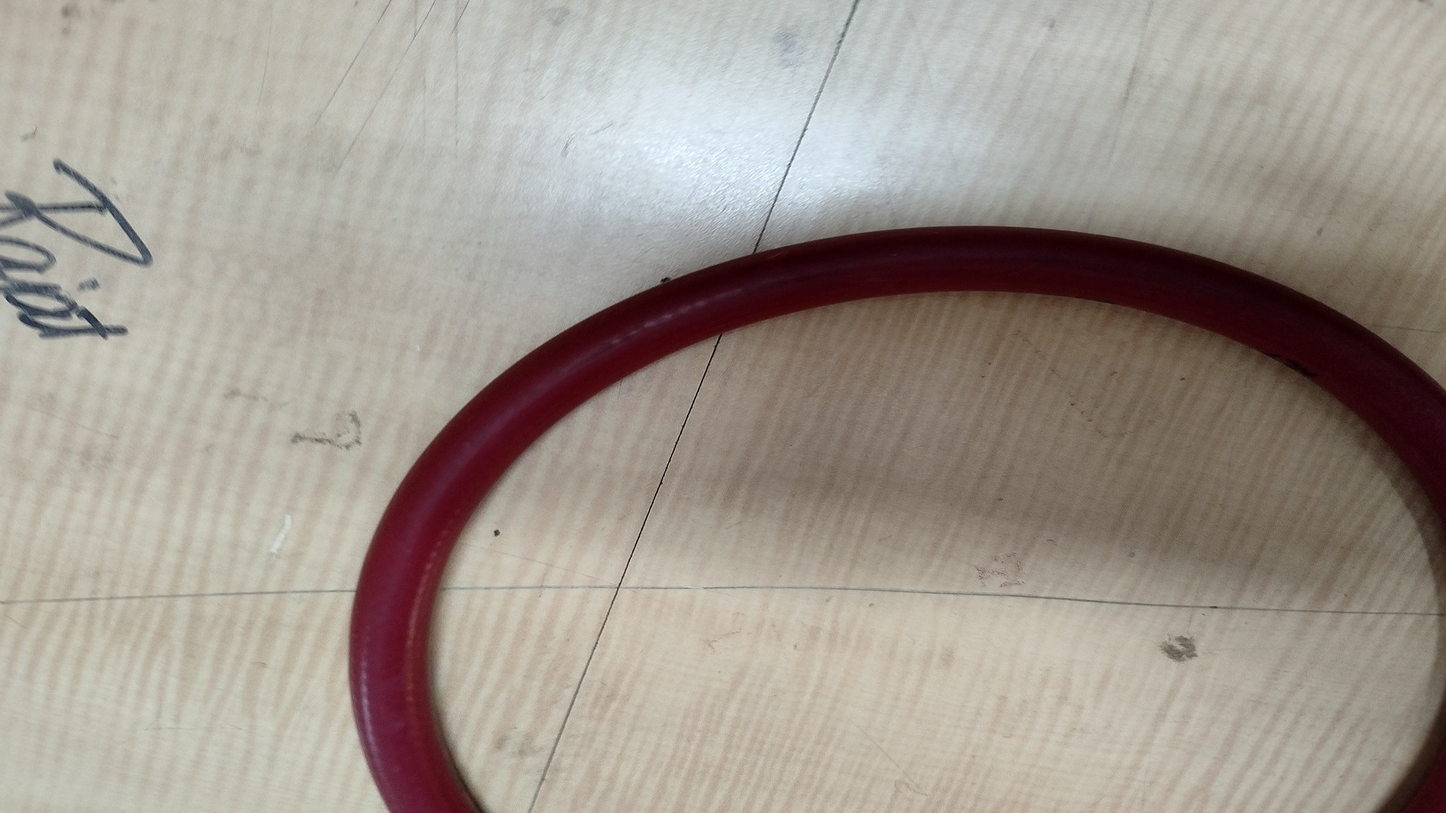Red ring: (345, 221, 1420, 813)
